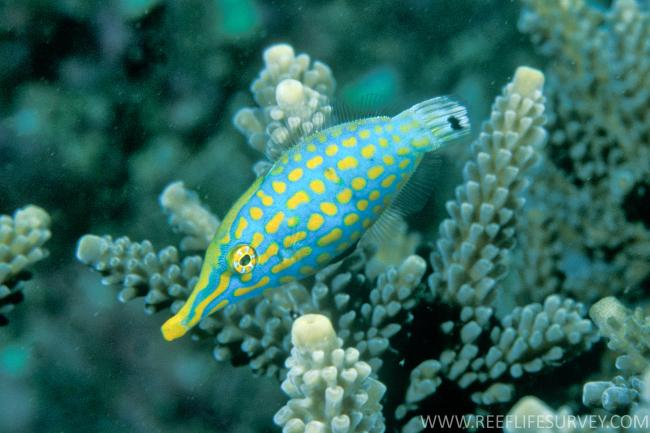fish: (161, 93, 470, 343)
